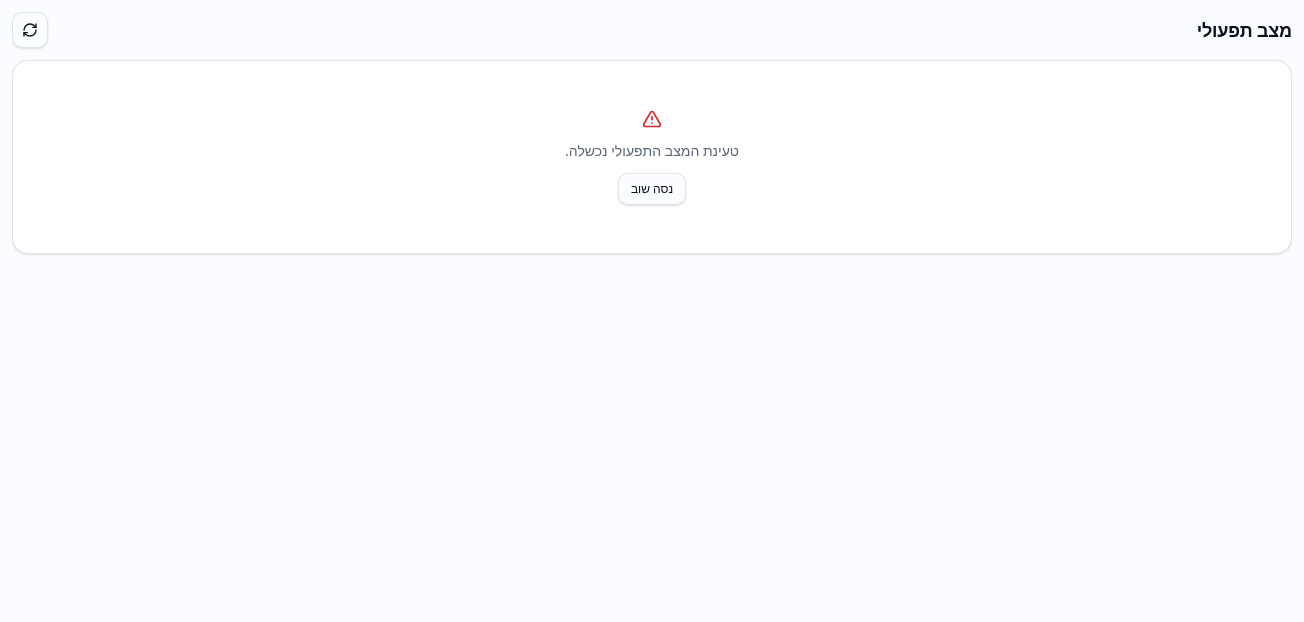
Test case: admin operations snapshot read states › retries an initial RPC failure without exposing private error details
Expected: the message named "שגיאת טעינת מצב תפעולי" does not show "private RPC detail", [12,60,1292,254]
Click the button "נסה שוב" at point(652, 189), box [618,173,686,205]
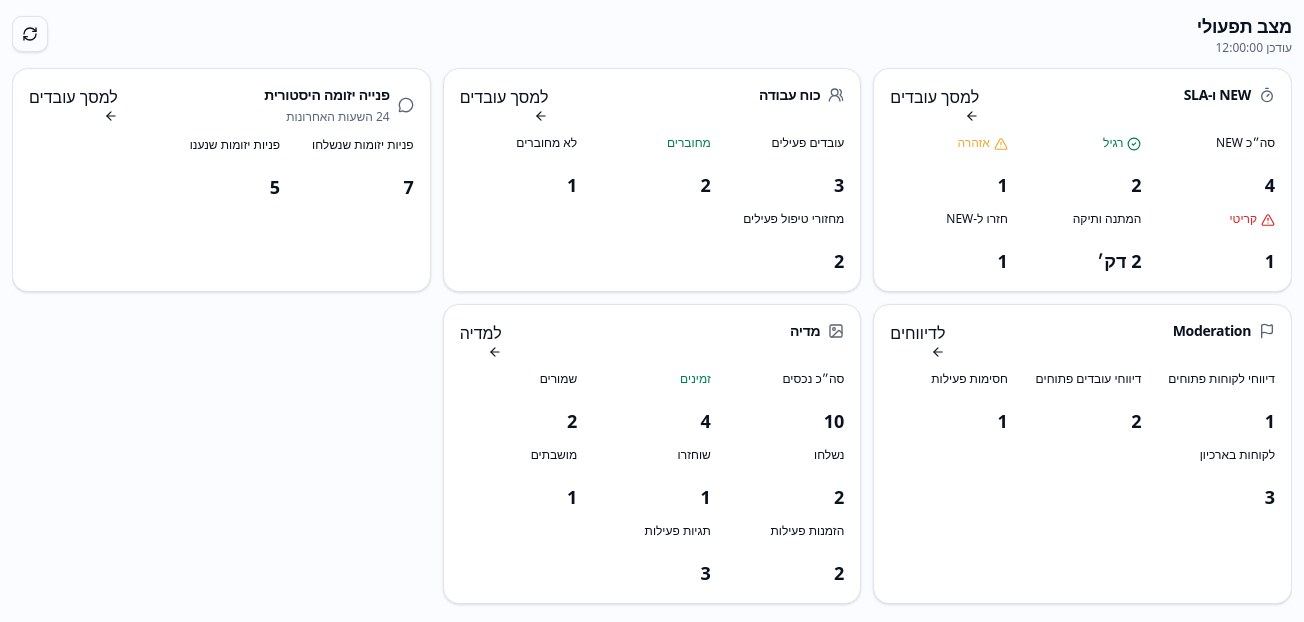
Now the text "סה״כ NEW" is shown, box [1216,135,1275,151]
